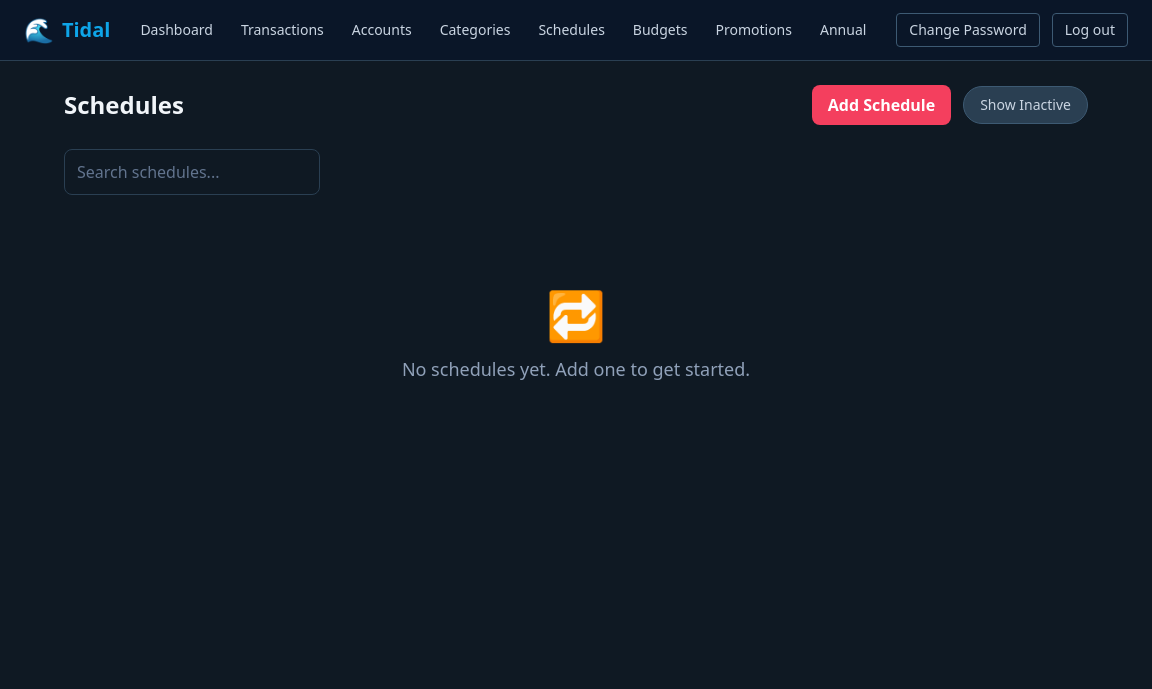
Test: SchedulesPage › hides AddScheduleForm when Add Schedule is clicked a second time
What coordinates should you click on to do the following:
click the button "Add Schedule"
I would click on:
 (881, 105)
Its box is [812,85,951,125].
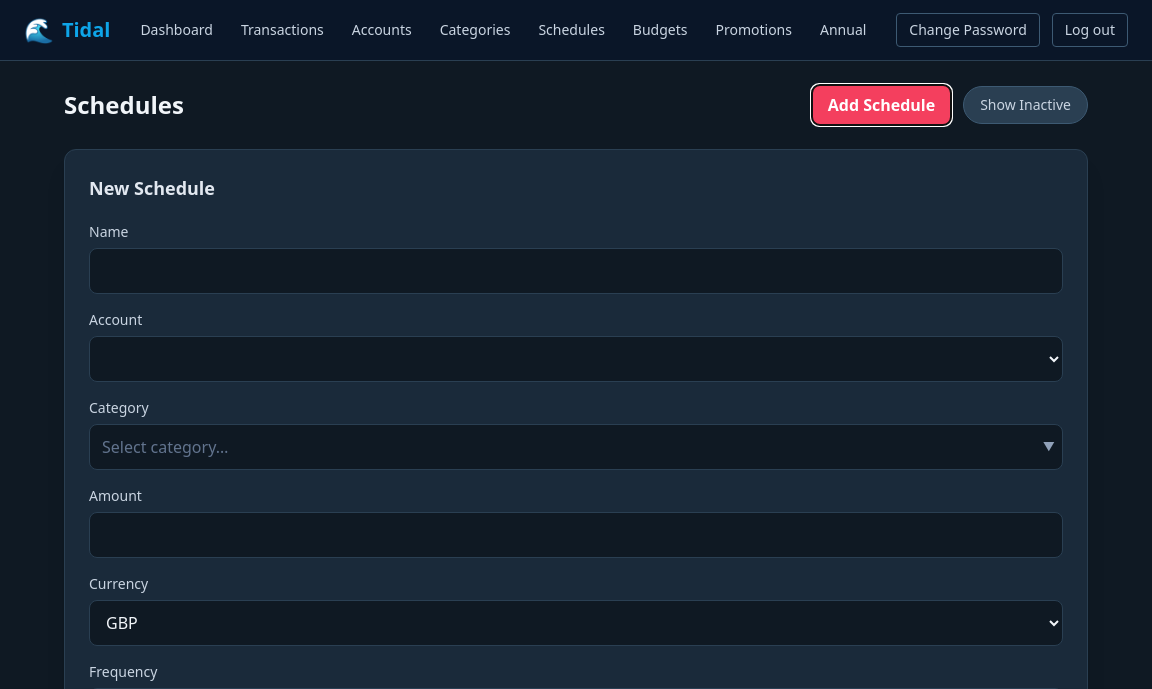
What coordinates should you click on to do the following:
click the button "Add Schedule"
I would click on:
 (881, 105)
Its box is [812,85,951,125].
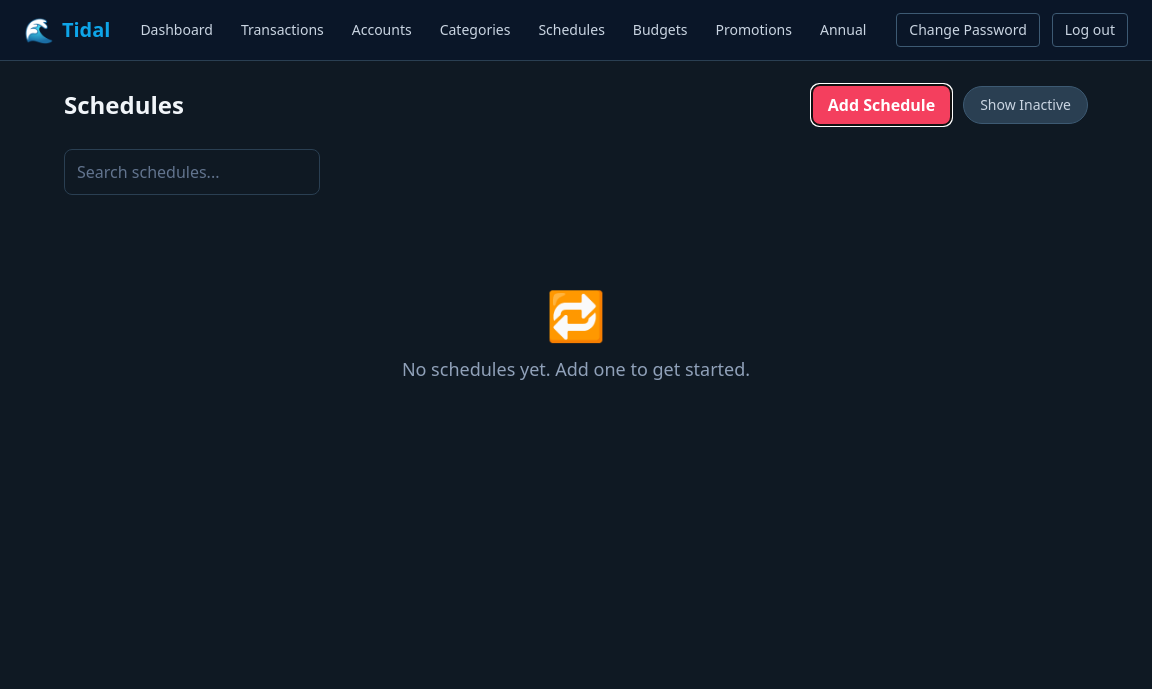
Check: the label labelled "Frequency" is gone
